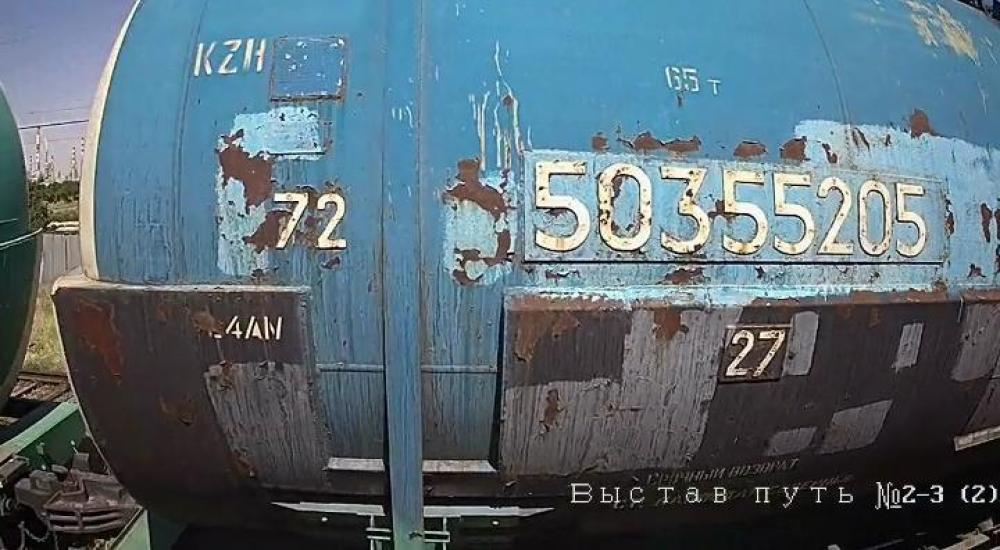Wagon-number: (524, 153, 950, 263)
